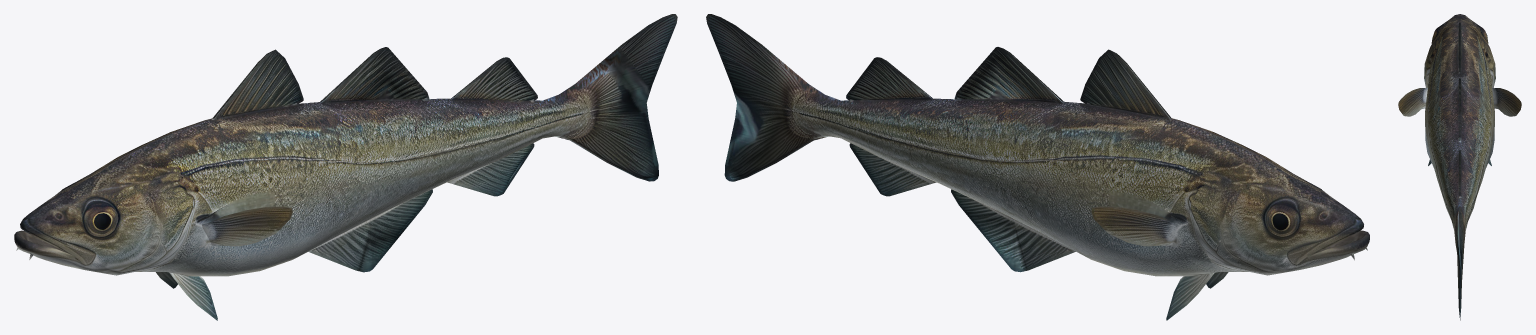
The model's file is pollock.glb.
3 renders of one model, left to right at view 1: azimuth 30°, elevation 25°; view 2: azimuth 150°, elevation 25°; view 3: azimuth 270°, elevation 25°, orthographic. The views are drawn at different scales.
Visible parts, largest first — view 1: tripo_node_01763b78-ce83-4ac0-9bbf-834375c8f611; view 2: tripo_node_01763b78-ce83-4ac0-9bbf-834375c8f611; view 3: tripo_node_01763b78-ce83-4ac0-9bbf-834375c8f611.
Boxes of the visible parts, x1,y1,x2,y2 form: tripo_node_01763b78-ce83-4ac0-9bbf-834375c8f611: (14, 14, 677, 320); tripo_node_01763b78-ce83-4ac0-9bbf-834375c8f611: (706, 14, 1369, 320); tripo_node_01763b78-ce83-4ac0-9bbf-834375c8f611: (1398, 14, 1521, 320).
Size of the model in its own units: 0.9995 by 0.354 by 0.2222.
1 material, 1 textured.
